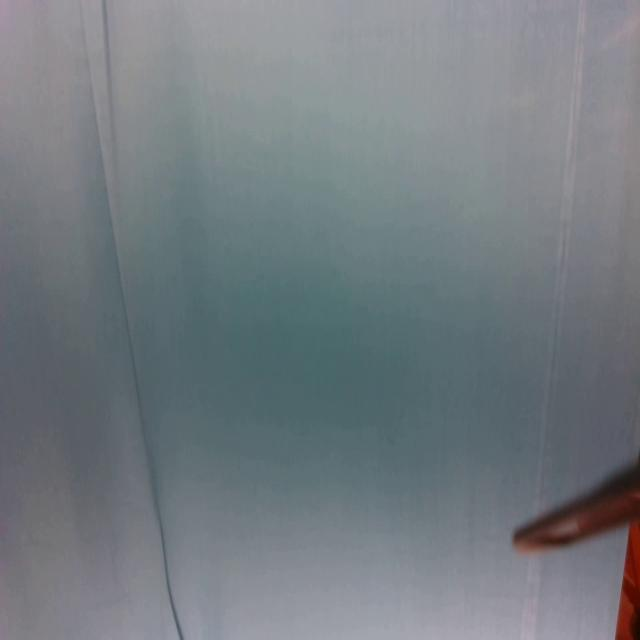crease: (78, 1, 185, 640), (531, 0, 585, 501), (101, 0, 120, 178), (519, 553, 544, 640)
